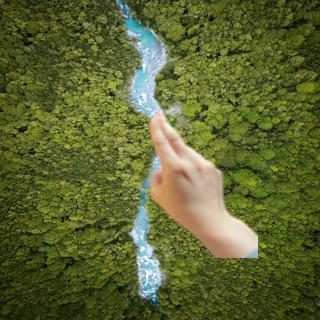DHAVE: (139, 105, 233, 232)
